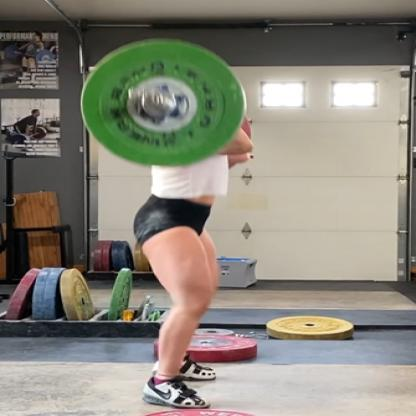barbell: (80, 38, 248, 168)
